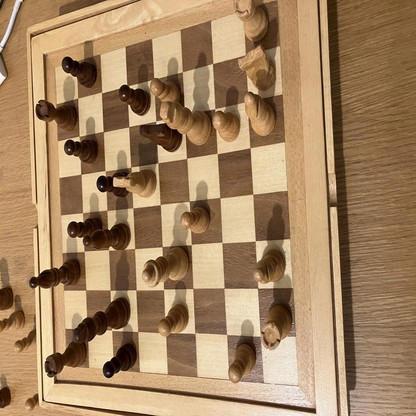bishop_black: (30, 260, 82, 291), (83, 222, 130, 249)
bishop_white: (244, 93, 276, 136), (252, 249, 286, 282)
king_black: (72, 298, 131, 344)
king_white: (160, 102, 212, 145)
knight_black: (139, 125, 183, 152)
knight_white: (237, 43, 276, 89), (112, 170, 157, 197)
pawn_black: (103, 344, 137, 377), (62, 58, 97, 86), (120, 85, 150, 114), (64, 138, 97, 162), (68, 216, 103, 237)
pawn_white: (228, 342, 257, 382), (158, 304, 189, 336), (212, 112, 240, 142), (181, 205, 210, 233), (151, 79, 181, 105)
queen_white: (141, 246, 189, 286)
rock_black: (44, 342, 87, 377), (36, 100, 78, 128)
rock_white: (261, 302, 293, 351), (233, 0, 269, 42)
